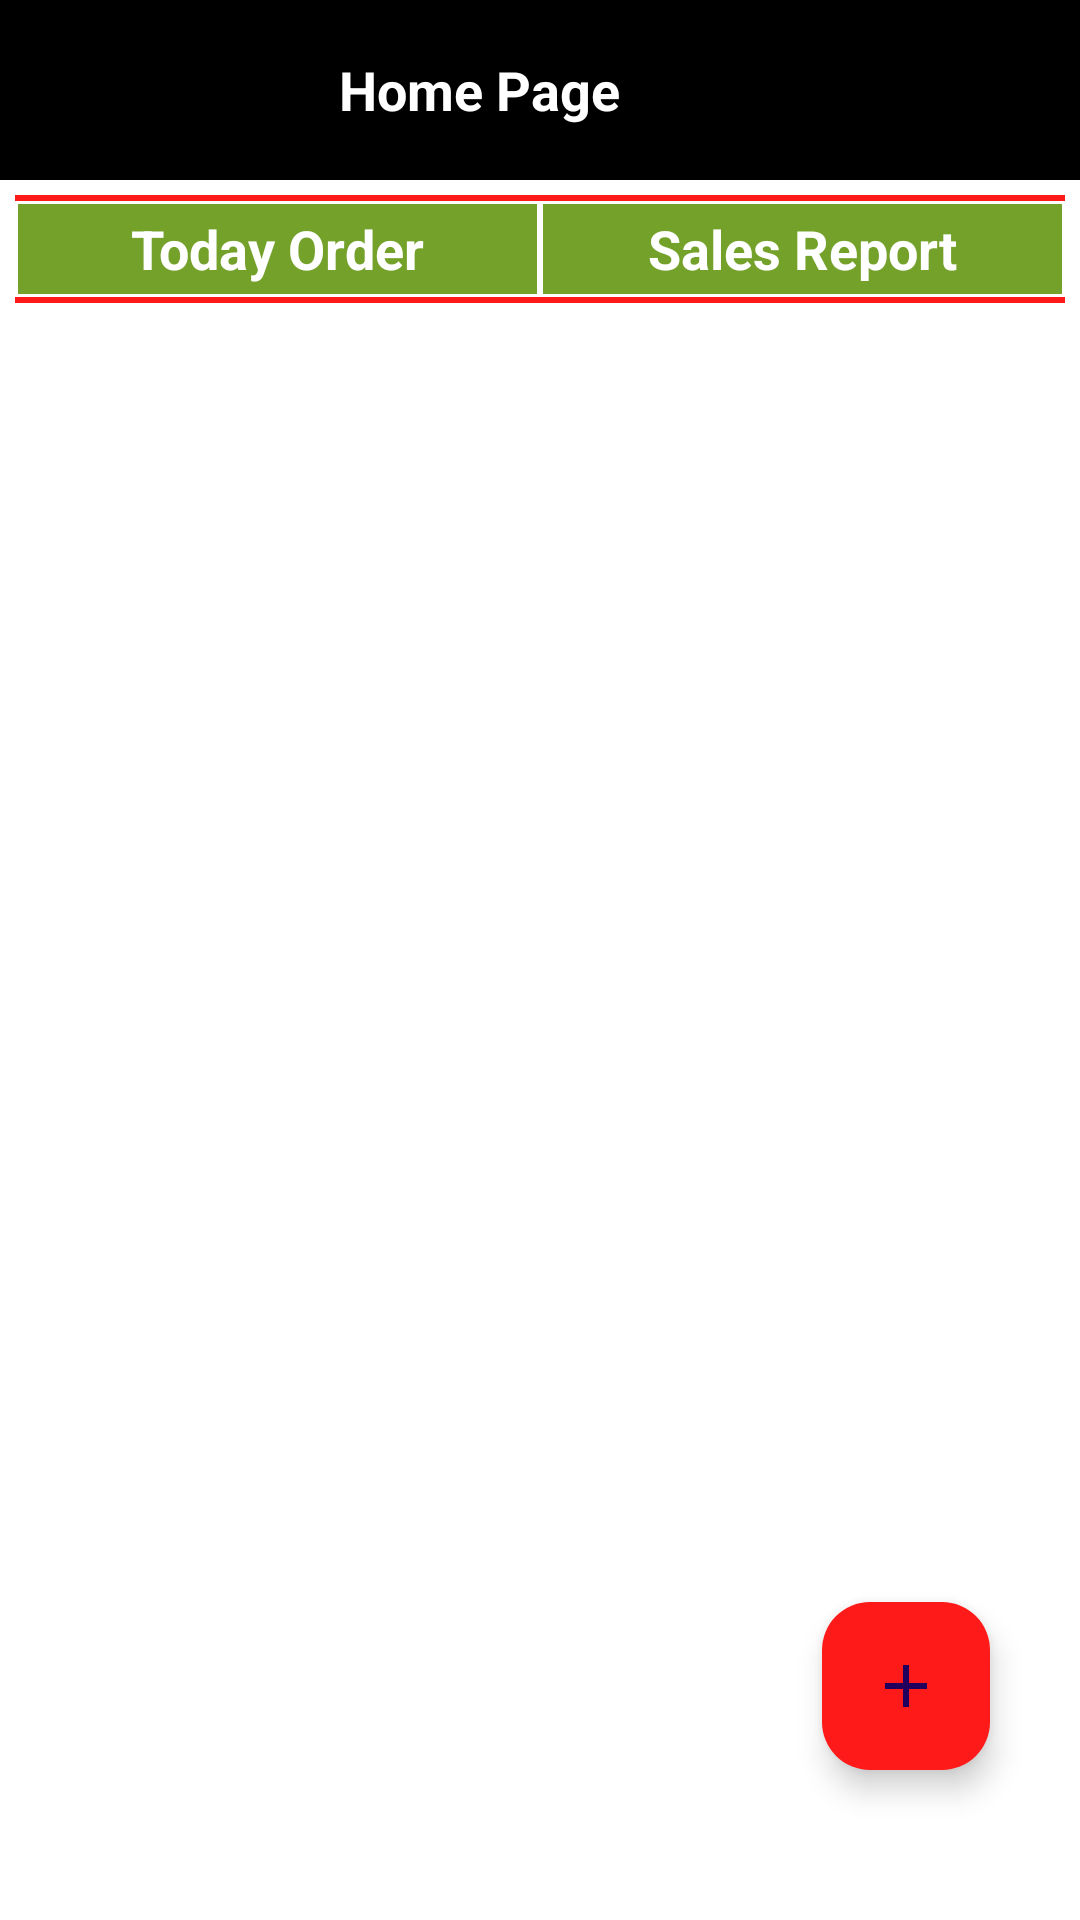

Icon bounding boxes for this 1080w x 1920h phone screenshot, format (x1, y1, x2, y2):
add: (822, 1602, 990, 1770)
